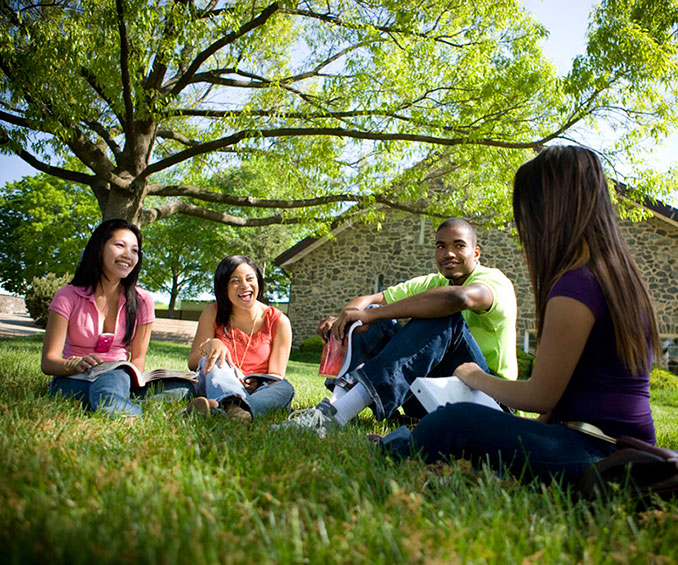Person: (513, 146, 659, 493), (317, 217, 518, 383), (41, 217, 191, 417), (189, 255, 293, 423)
